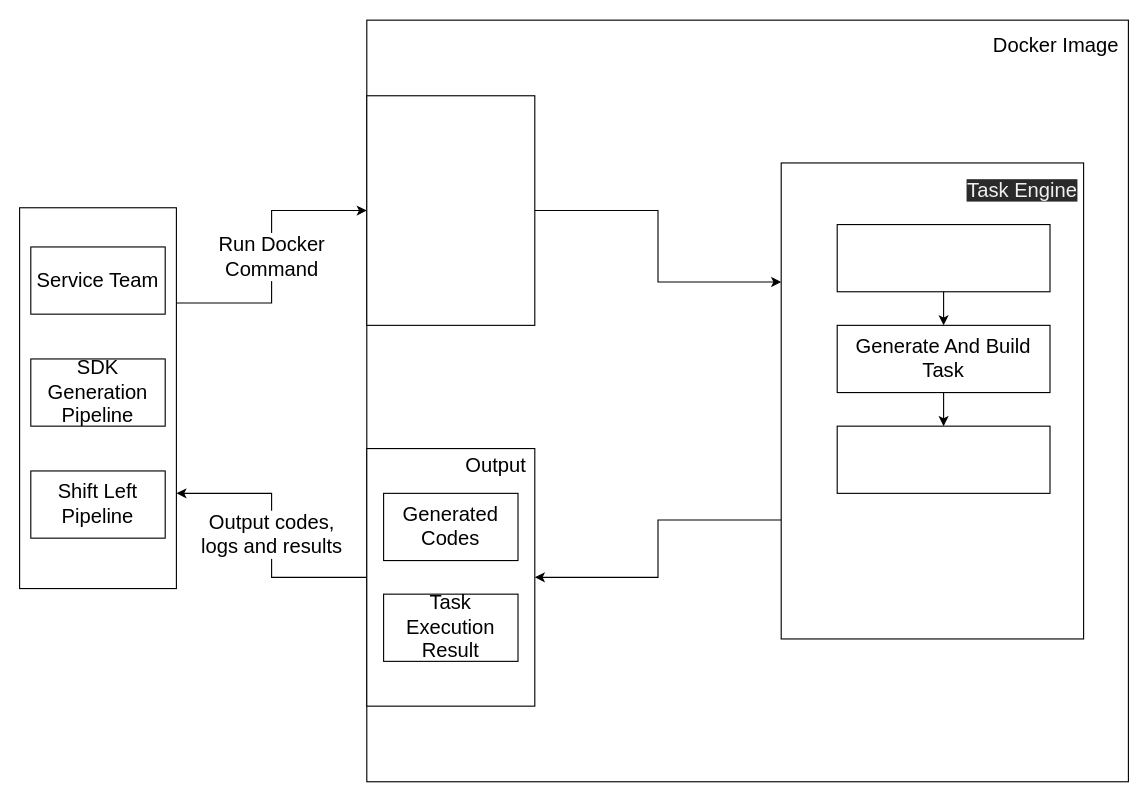
Some shapes in this 1148 by 810 pixel diagram are drawn without their labels. Here are the shapes that lost their labels. From the top down, the box of each, then its label:
(366, 95, 535, 325): Docker Commands
(836, 223, 1050, 292): Init Task
(836, 425, 1050, 493): Mock Test Task
